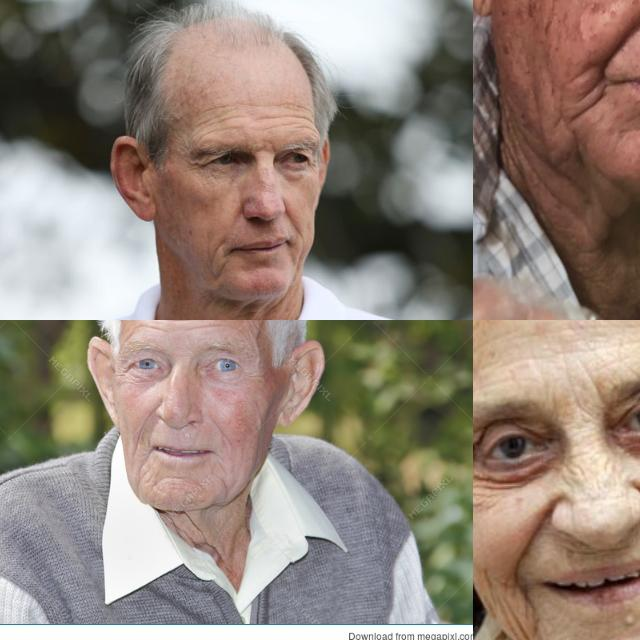bunny_line: (557, 461, 587, 491), (599, 455, 629, 481)
chin: (140, 456, 160, 490), (162, 468, 190, 486), (215, 474, 235, 494)
forehead: (473, 371, 540, 391), (262, 108, 316, 132), (197, 106, 240, 130), (537, 344, 605, 358), (174, 320, 225, 332), (134, 320, 167, 334)
frown_line: (584, 376, 608, 412)
gummy_smile: (596, 5, 640, 65), (513, 506, 551, 566), (136, 404, 154, 446), (285, 210, 305, 236), (211, 420, 231, 444)
masseter: (481, 570, 511, 624), (207, 240, 229, 276)
sad_smile: (569, 78, 609, 122), (513, 582, 543, 632)
